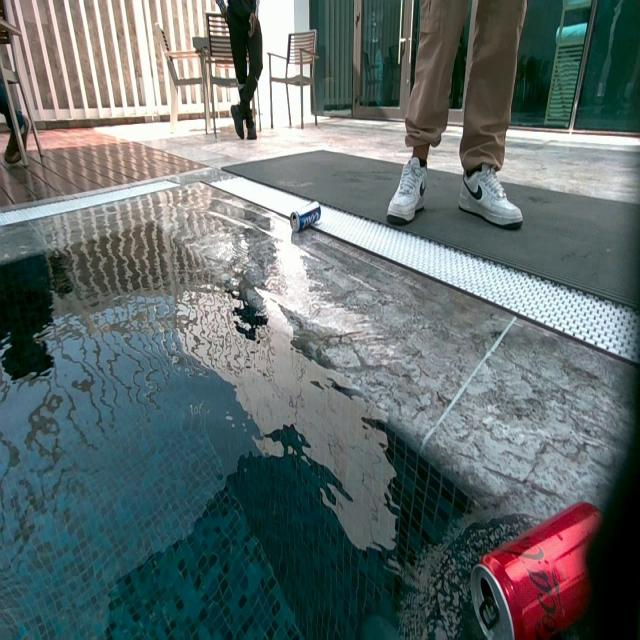Cans: (470, 502, 601, 639), (290, 201, 322, 232)
